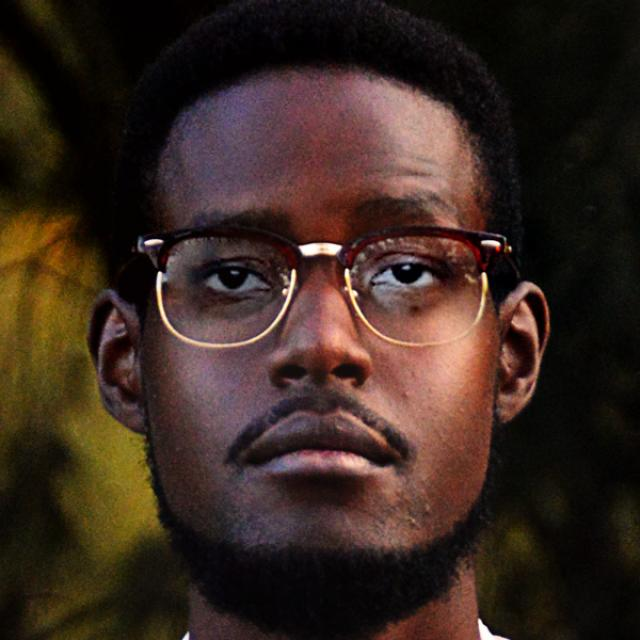face: (89, 44, 559, 599)
